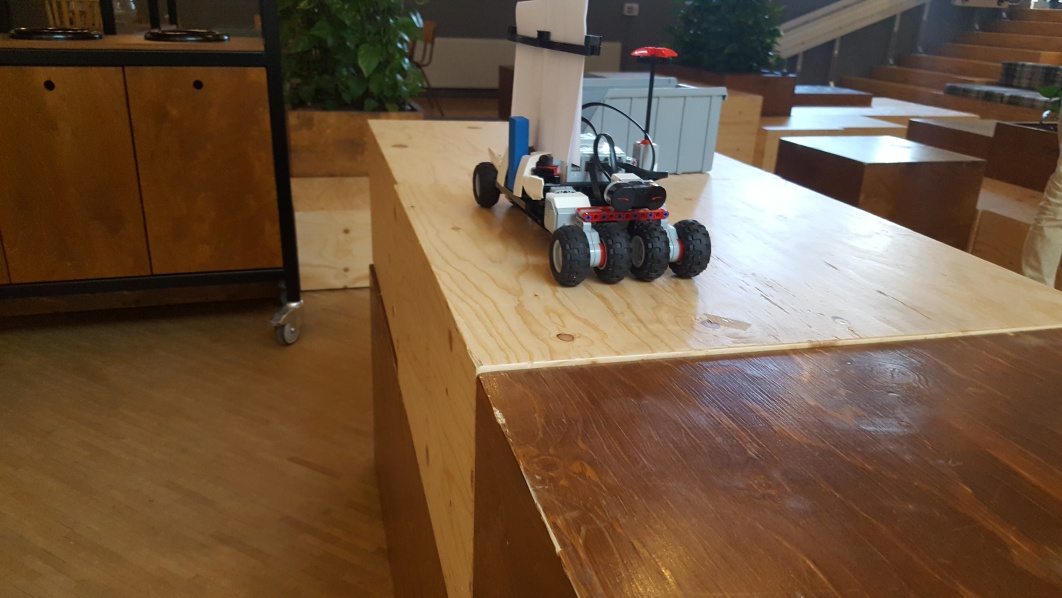beam: (506, 115, 528, 192)
